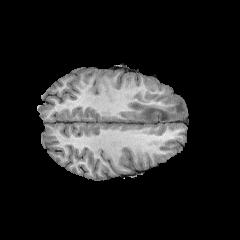glioma: (127, 98, 186, 121)
